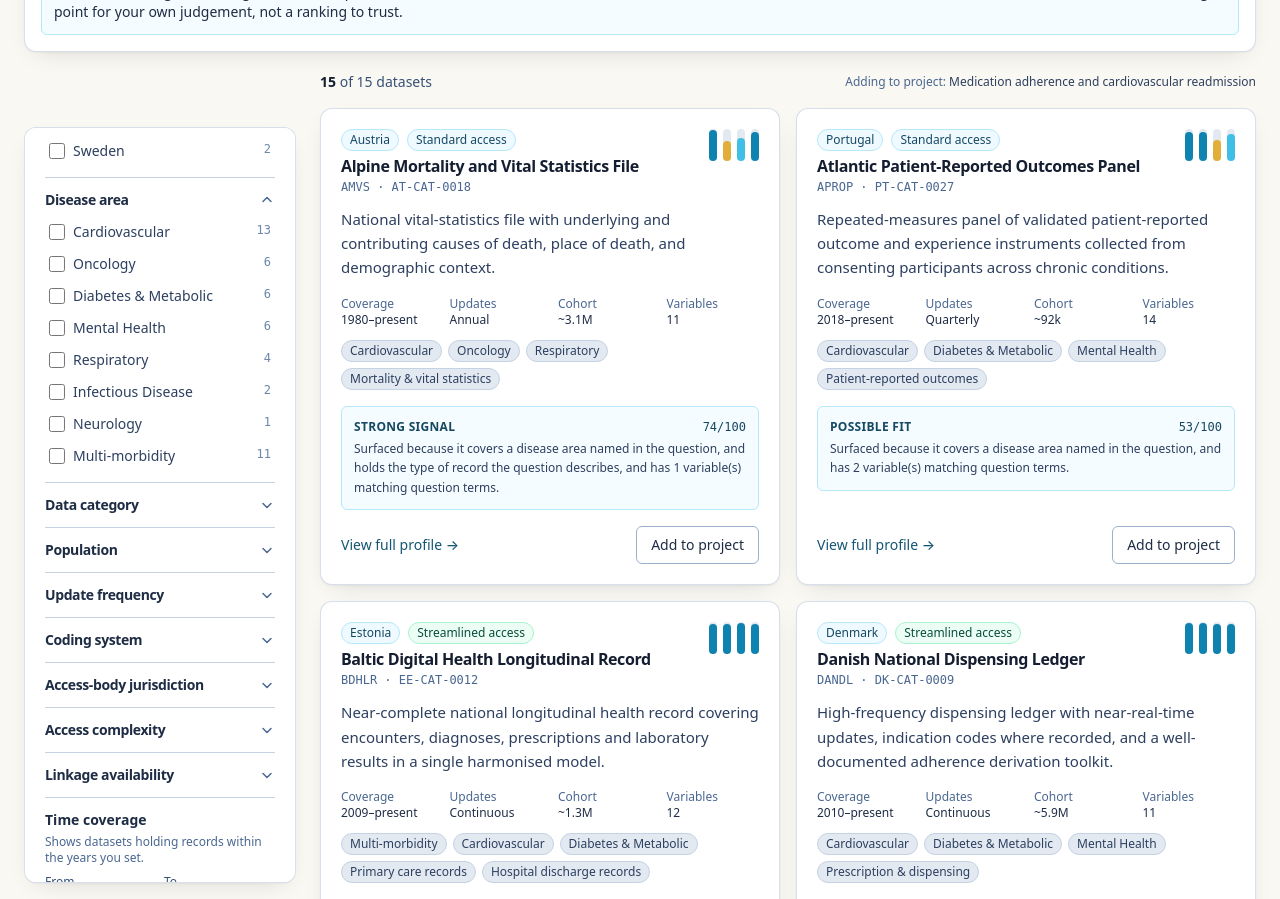
Scenario: catalogue discovery › keeps facet groups collapsible with correct expanded state
(page scrolled)
Click the button "Data category" at point(160, 505), box [45,495,275,515]
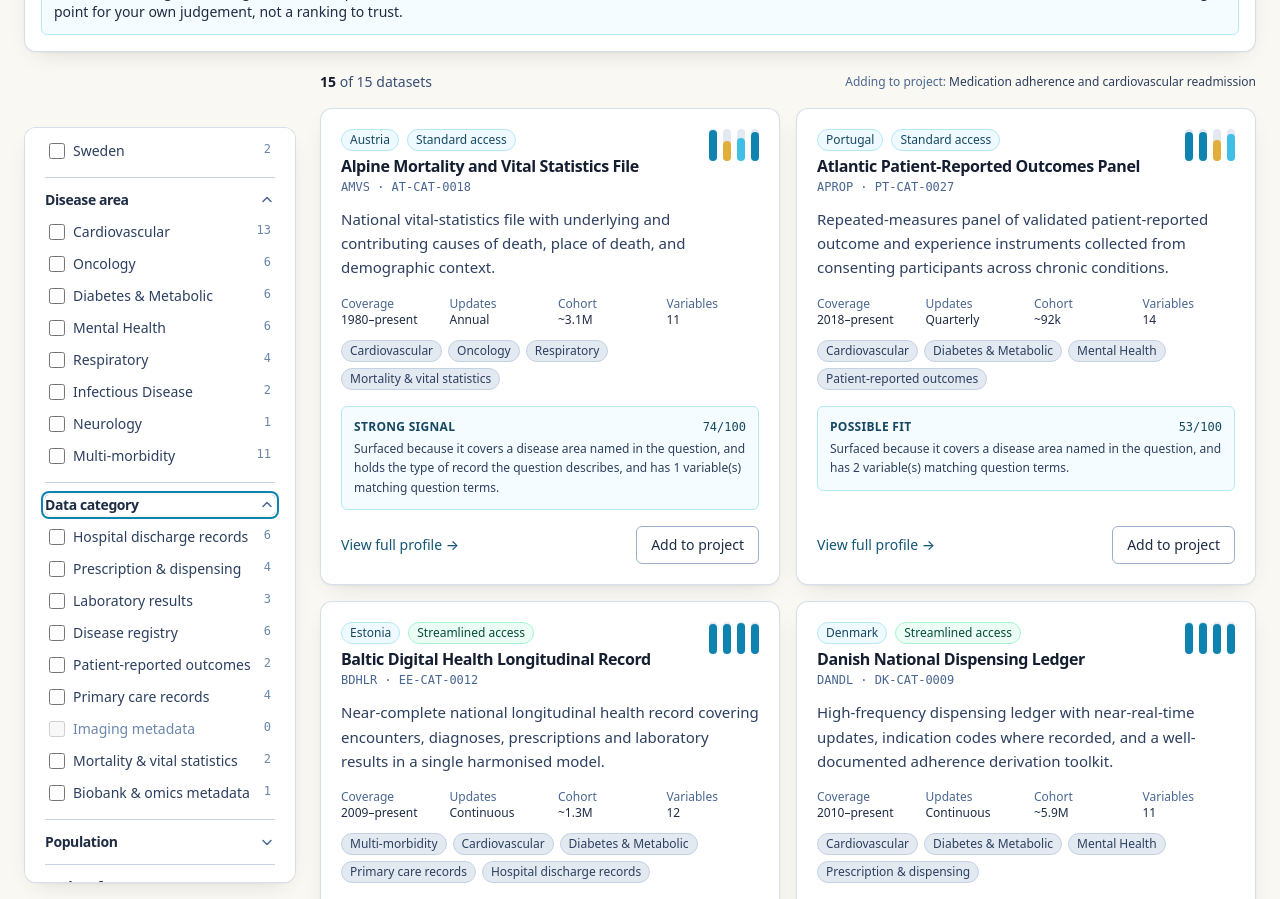
Result: the button "Data category" is expanded at [45,495,275,515]
